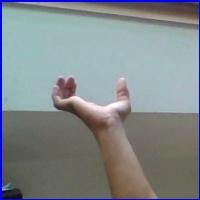B: (49, 70, 141, 124)
